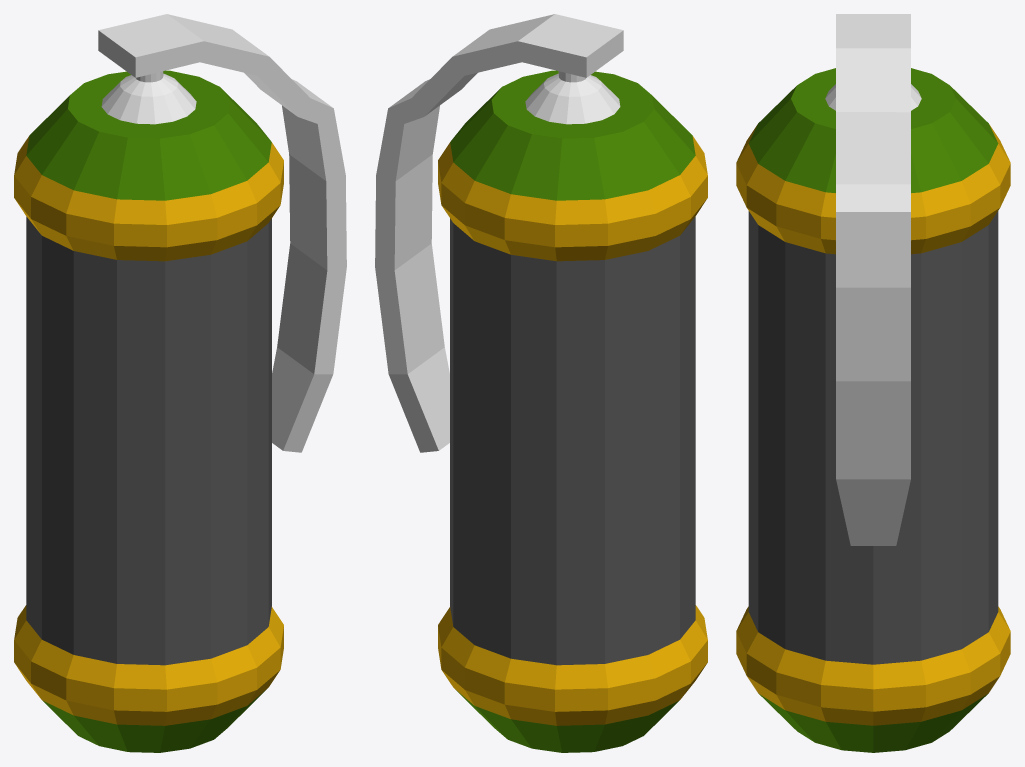
File: Г2 Граната свето-шумовая.fbx
3 views of the same model, side by side, from view 1: azimuth 30°, elevation 25°; view 2: azimuth 150°, elevation 25°; view 3: azimuth 270°, elevation 25° (orthographic).
Parts seen in each view (by area): view 1: Cylinder, Plane; view 2: Cylinder, Plane; view 3: Cylinder, Plane.
Part boxes in pixels (<box>): Cylinder: <box>14,70,283,752</box>; Plane: <box>98,14,346,452</box>; Cylinder: <box>438,70,707,752</box>; Plane: <box>375,14,623,452</box>; Cylinder: <box>736,68,1010,752</box>; Plane: <box>836,14,910,545</box>.
Bounding box in the file's own units: 166 × 365 × 132.
